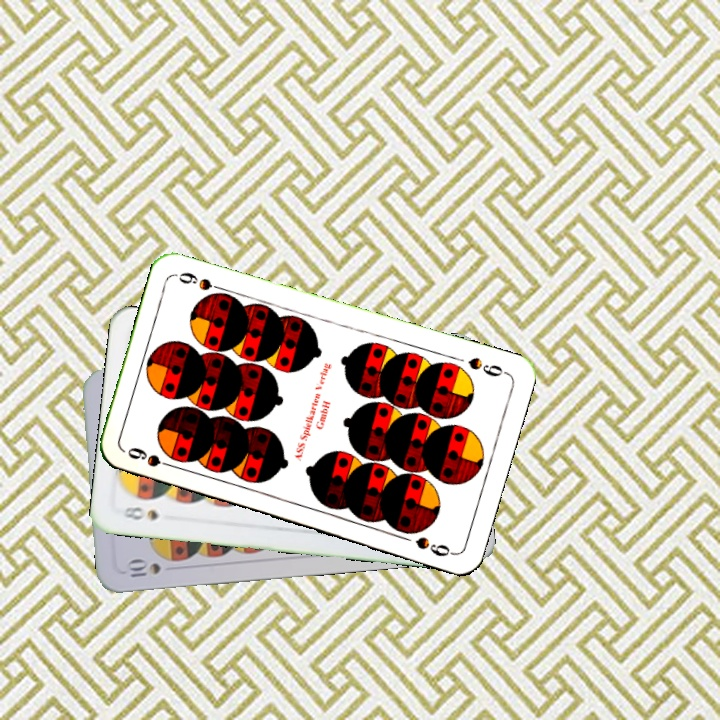S10: (121, 556, 163, 580)
S8: (119, 502, 162, 523)
S9: (123, 443, 180, 471), (464, 353, 510, 380)
